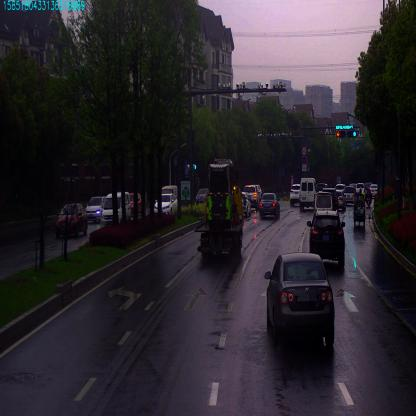traffic-light: (336, 123, 354, 130), (336, 131, 346, 138), (348, 129, 356, 136)
